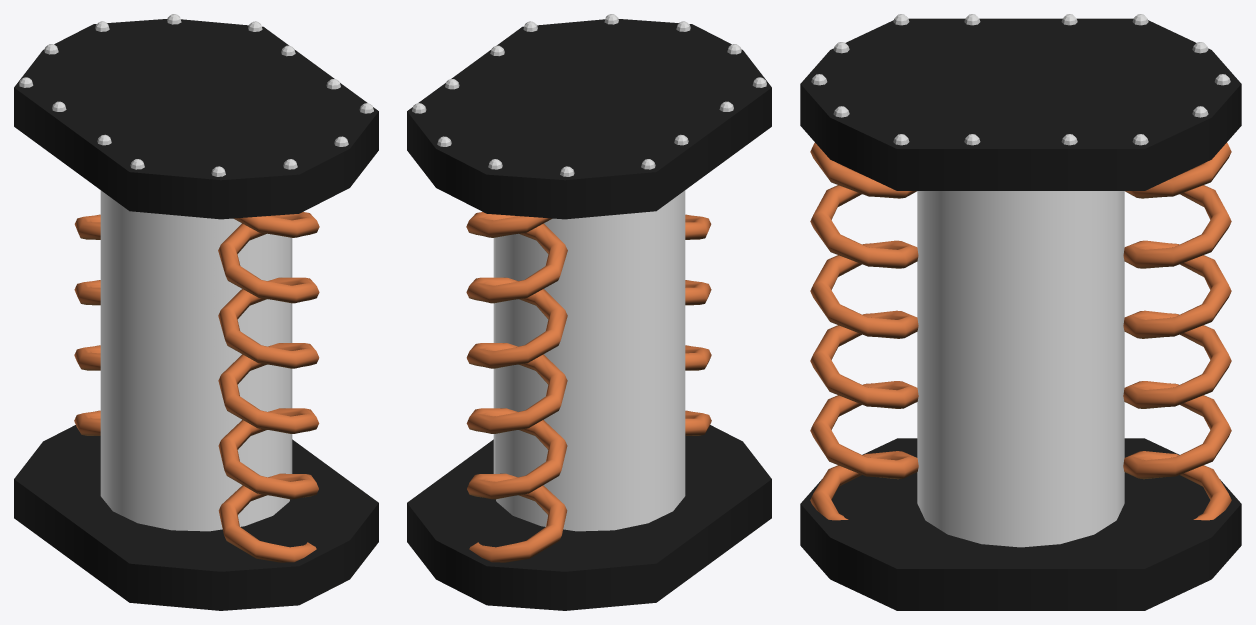
File: Power_Source.fbx
The picture shows the model from 3 angles, left to right: view 1: azimuth 30°, elevation 25°; view 2: azimuth 150°, elevation 25°; view 3: azimuth 270°, elevation 25°; orthographic projection. The views are drawn at different scales.
Visible parts, largest first — view 1: Cylinder, Coils, Sphere; view 2: Cylinder, Coils, Sphere; view 3: Cylinder, Coils, Sphere.
Boxes of the visible parts, left/top/right/bottom form: Cylinder: left=14, top=19, right=378, bottom=610; Coils: left=74, top=212, right=319, bottom=562; Sphere: left=19, top=14, right=373, bottom=176; Cylinder: left=407, top=19, right=771, bottom=610; Coils: left=466, top=212, right=711, bottom=562; Sphere: left=412, top=14, right=766, bottom=176; Cylinder: left=800, top=18, right=1241, bottom=610; Coils: left=810, top=142, right=1231, bottom=520; Sphere: left=811, top=14, right=1230, bottom=145.
Size of the model in its own units: 286 by 337 by 200.
